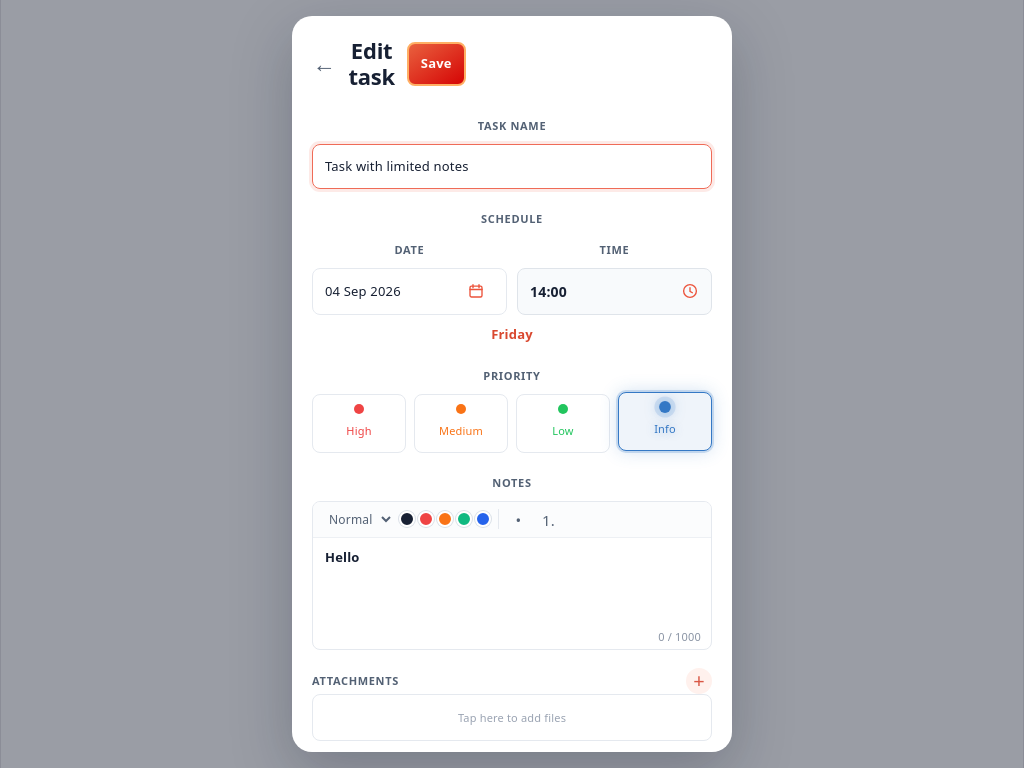
Scenario: does not count formatting tags as note characters
Clear the text box with class "notes-editor-content" at (342, 557), box top-left (325, 548), bottom-right (360, 566)
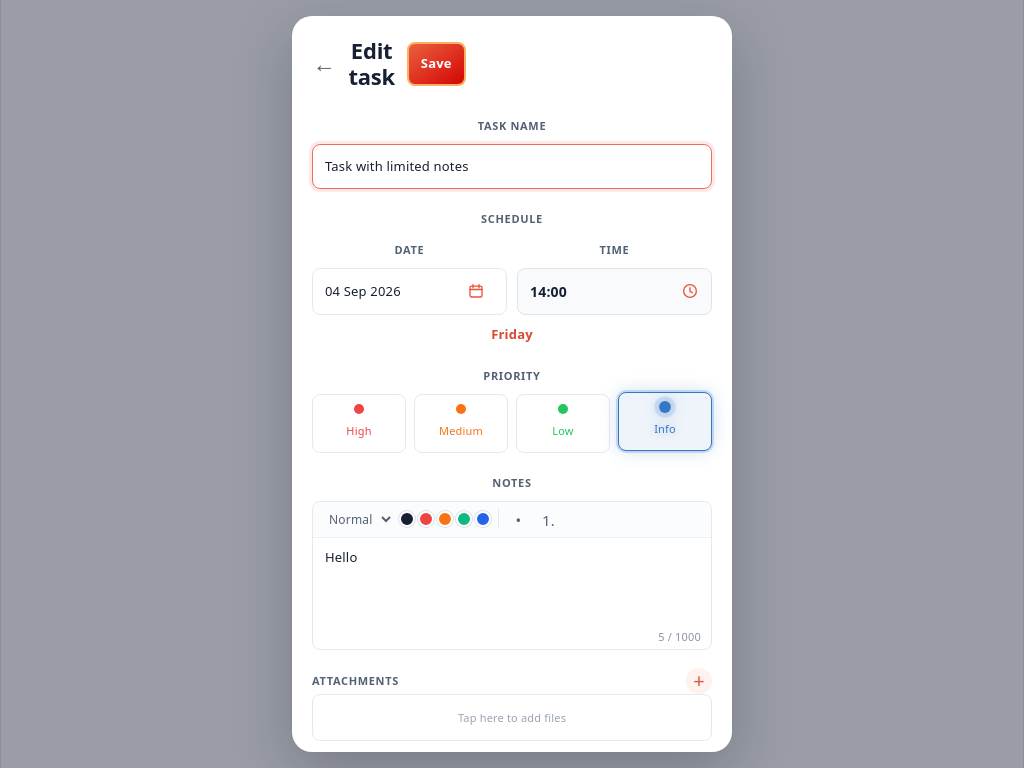
Now the text "5 / 1000" is shown, box top-left (658, 629), bottom-right (701, 644)
